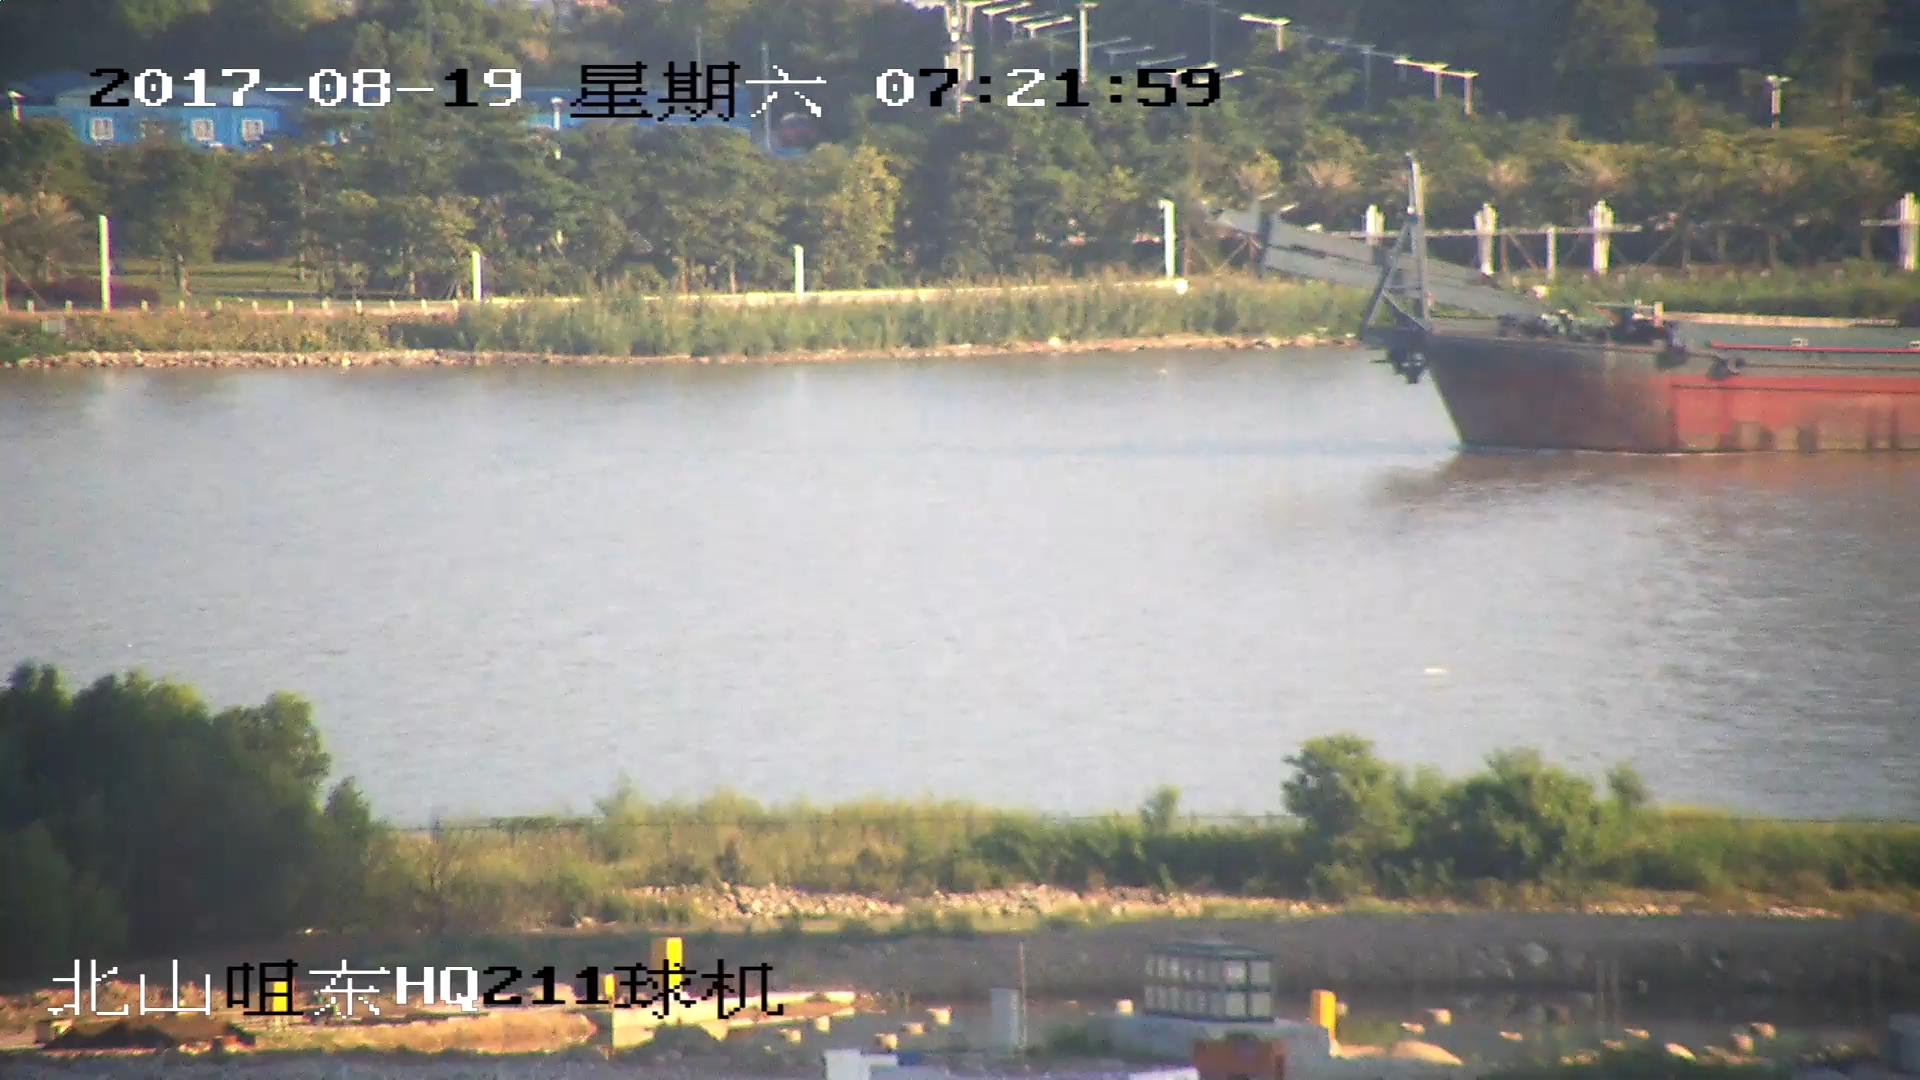bulk cargo carrier: (1213, 190, 1920, 456)
